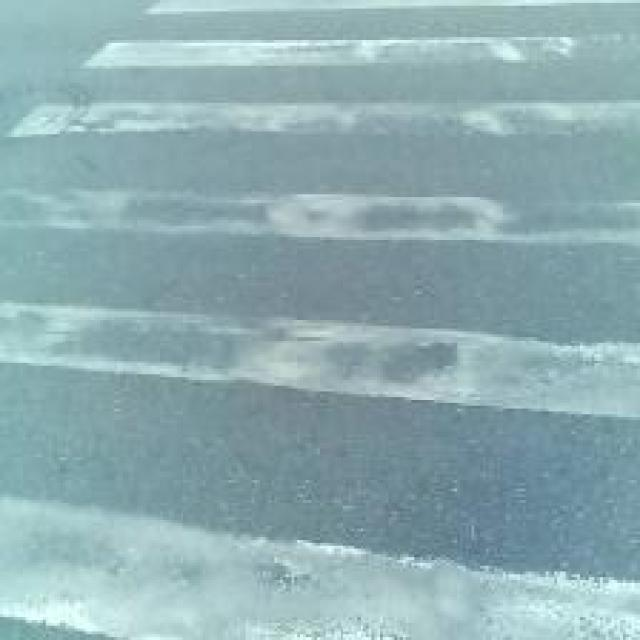walk-crossing: (97, 29, 617, 617)
